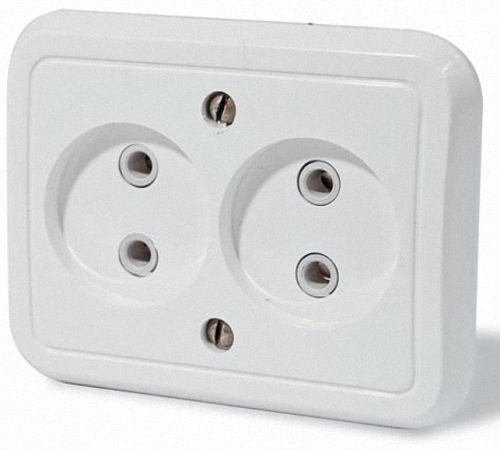raccoon: (215, 129, 403, 328), (42, 122, 213, 310)
